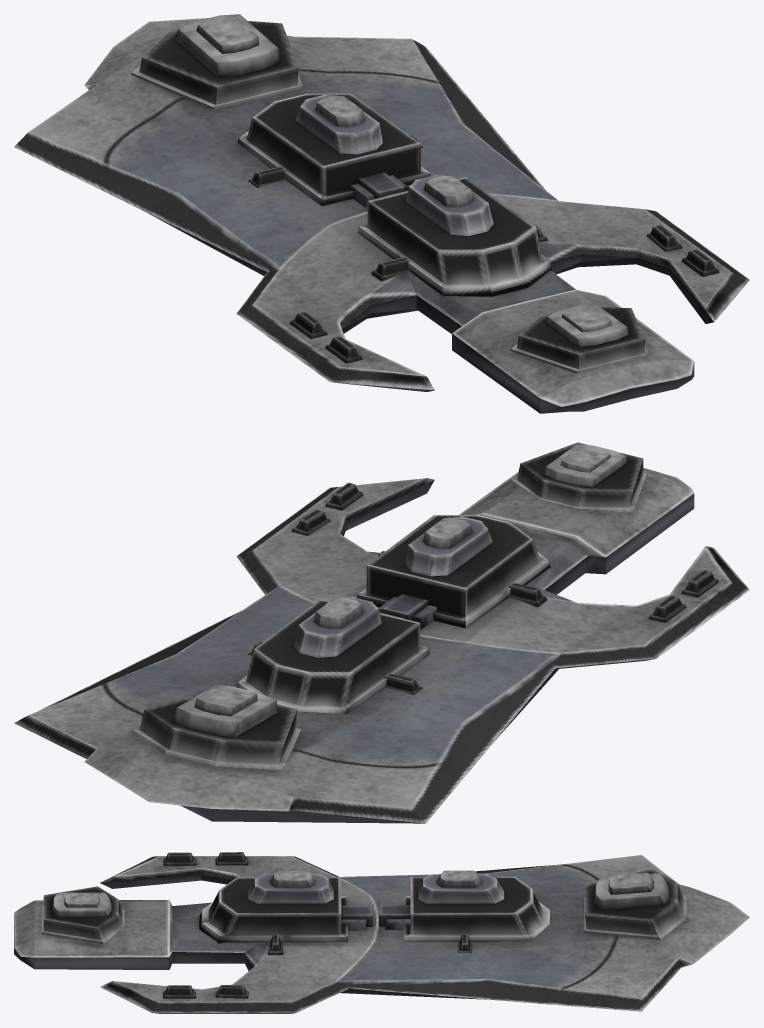
The model's file is Impero_5.fbx.
3 views of the same model, one above another, from view 1: azimuth 30°, elevation 25°; view 2: azimuth 150°, elevation 25°; view 3: azimuth 270°, elevation 25° (orthographic). The views are drawn at different scales.
Visible parts, largest first — view 1: Texture, Colore1; view 2: Texture, Colore1; view 3: Texture, Colore1.
Part boxes in pixels (left/top/right/bottom): Texture: left=14, top=21, right=749, bottom=413; Colore1: left=28, top=14, right=730, bottom=406; Texture: left=14, top=442, right=749, bottom=823; Colore1: left=28, top=444, right=730, bottom=811; Texture: left=14, top=852, right=692, bottom=1013; Colore1: left=14, top=855, right=749, bottom=1001.
Bounding box in the file's own units: 7.22 × 1.98 × 14.35.
2 materials, 2 textured.
